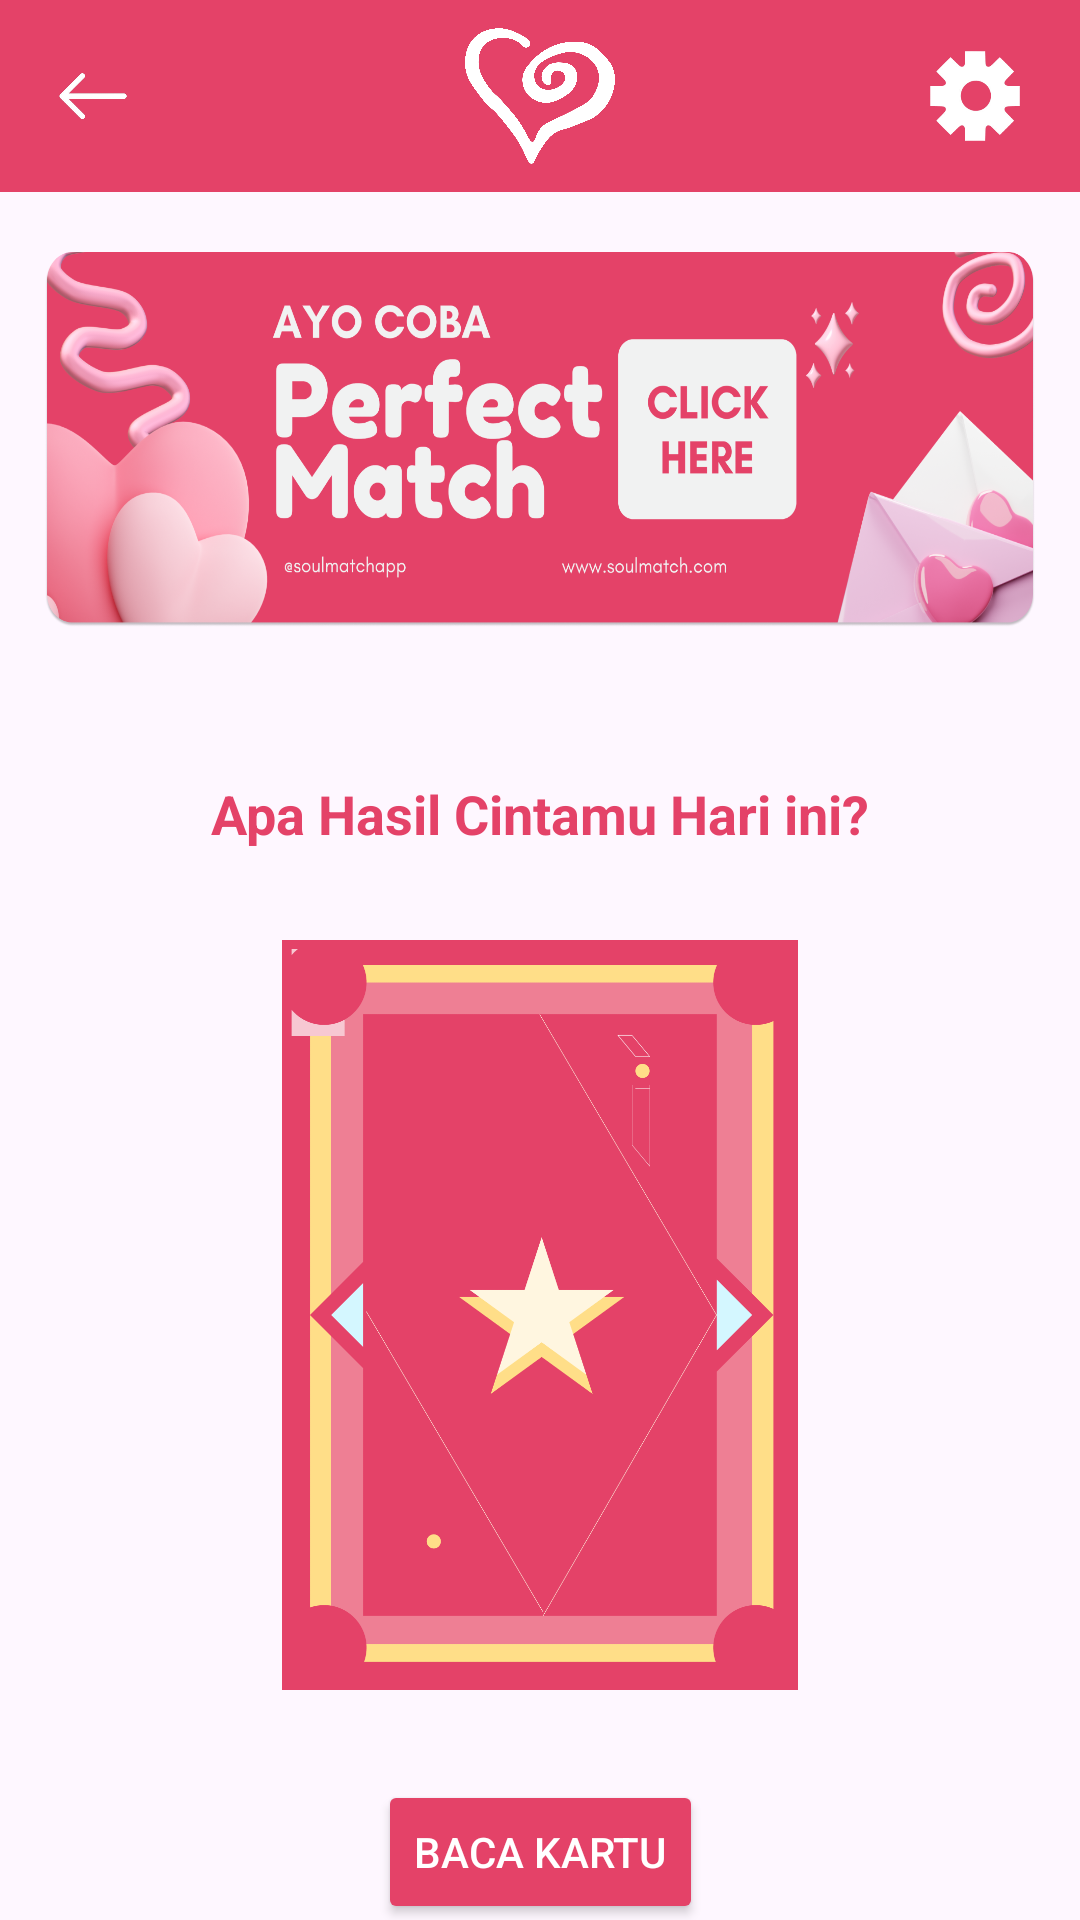

Screen size 1080px x 1920px. Icon name, then its box in pixels as (x1, y1, x2, y2):
Back Button: (59, 73, 127, 119)
Settings Button: (930, 51, 1020, 141)
